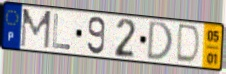2: (113, 17, 137, 59)
9: (87, 16, 107, 55)
D: (174, 22, 203, 66), (146, 20, 175, 62)
L: (51, 12, 72, 52)
M: (19, 8, 53, 51)
